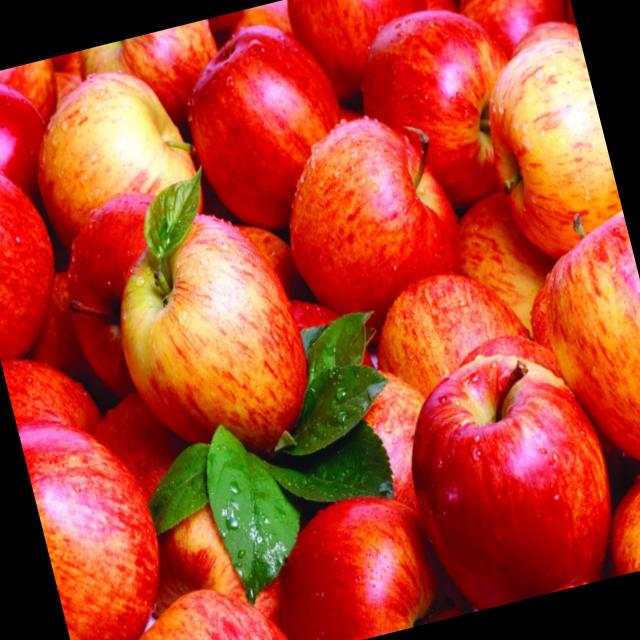apple: (84, 185, 337, 468), (390, 336, 624, 617), (268, 96, 477, 356), (163, 6, 368, 240), (337, 0, 553, 222)
